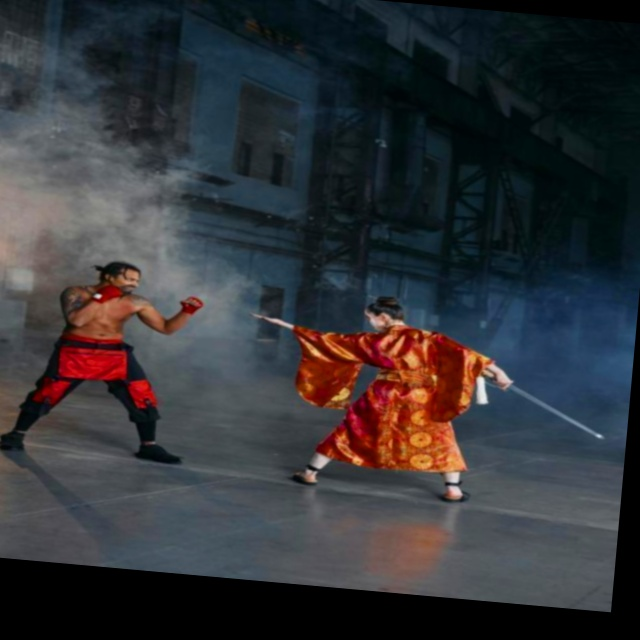Sharp-Object: (458, 363, 617, 447)
